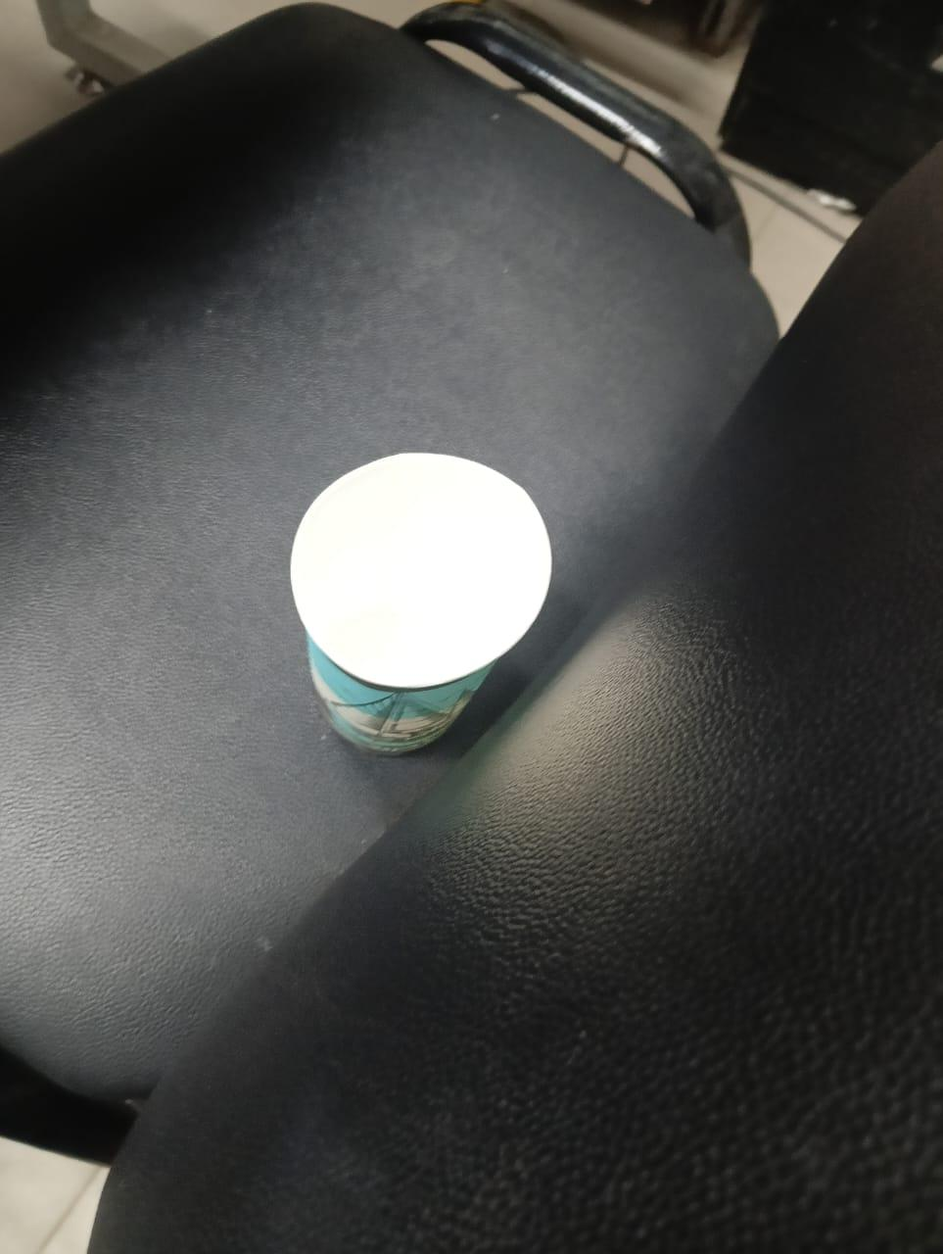cup: (291, 454, 550, 752)
